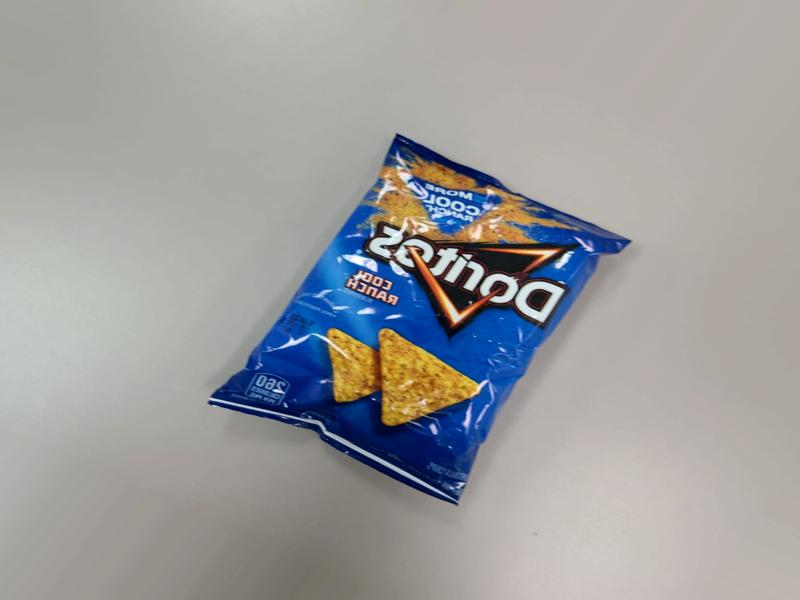doritos: (303, 224, 661, 518)
